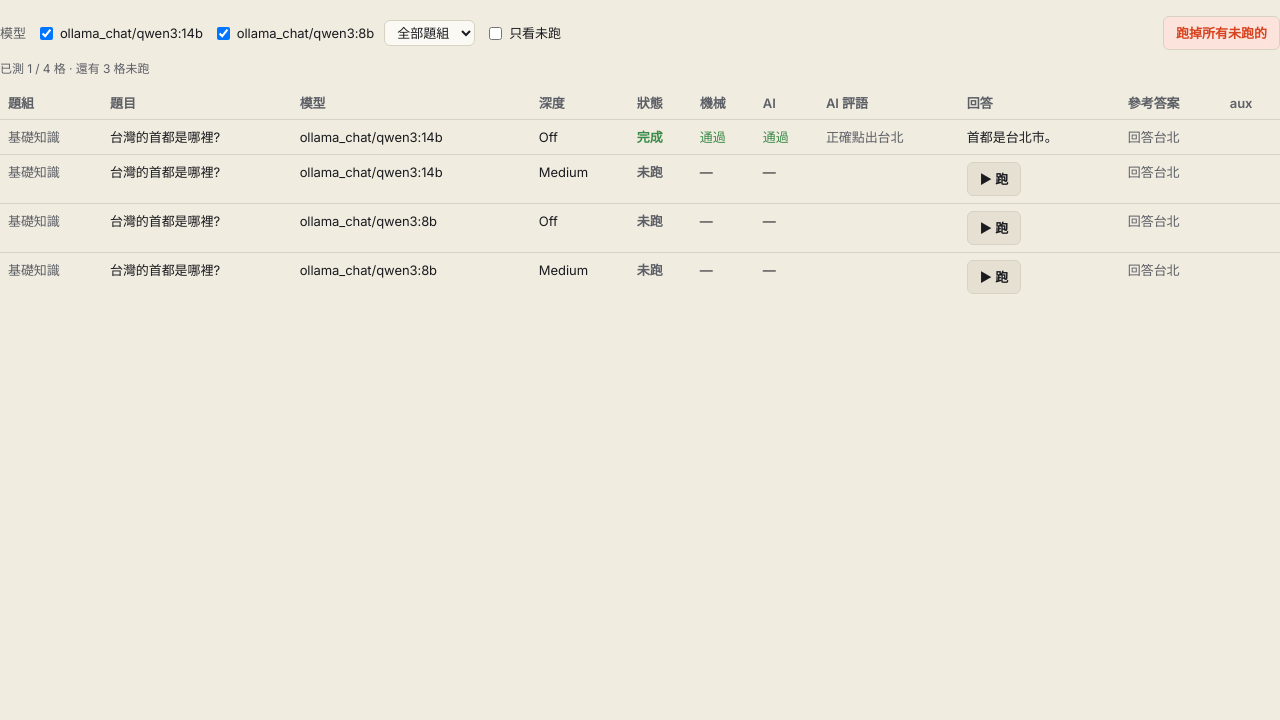
Test: SanityTable (coverage) › opens a modal with the full output + the AI note
Click the button "首都是台北市。" at (1012, 137), box 967,127 -> 1058,147
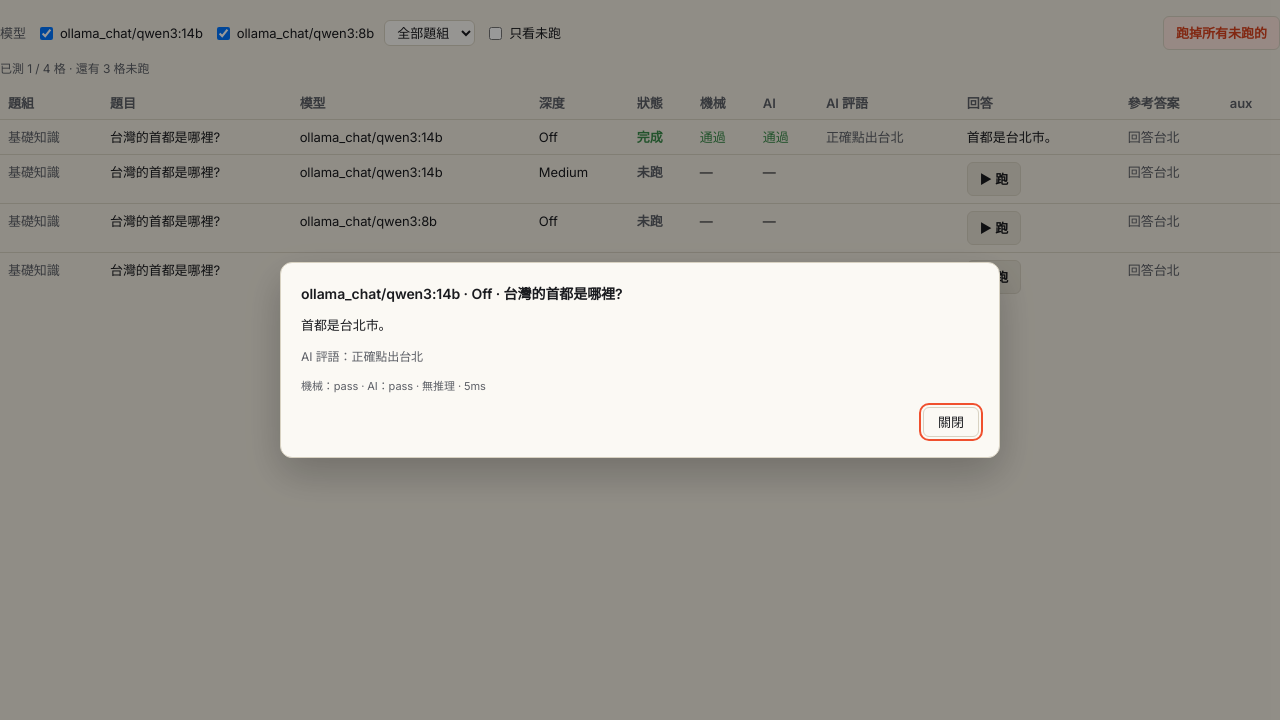
Expected: the text "首都是台北市。" is shown, 301,317 -> 392,333
Expected: the text "AI 評語：正確點出台北" is shown, 301,349 -> 423,364
